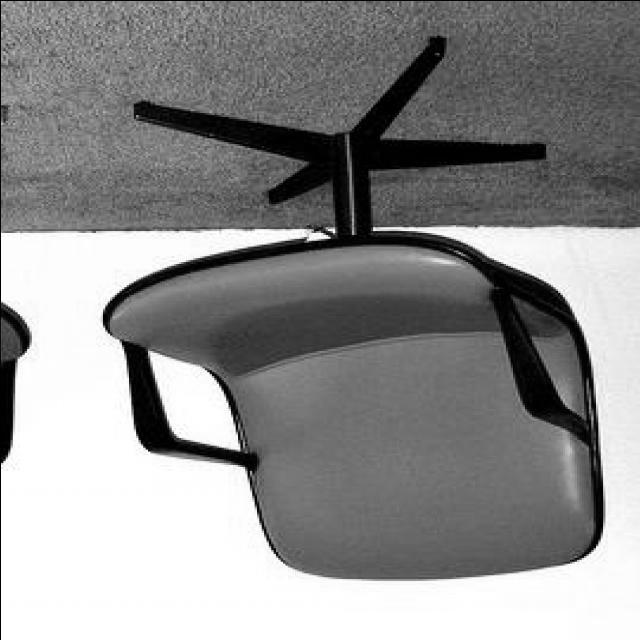chair: (103, 34, 605, 580)
